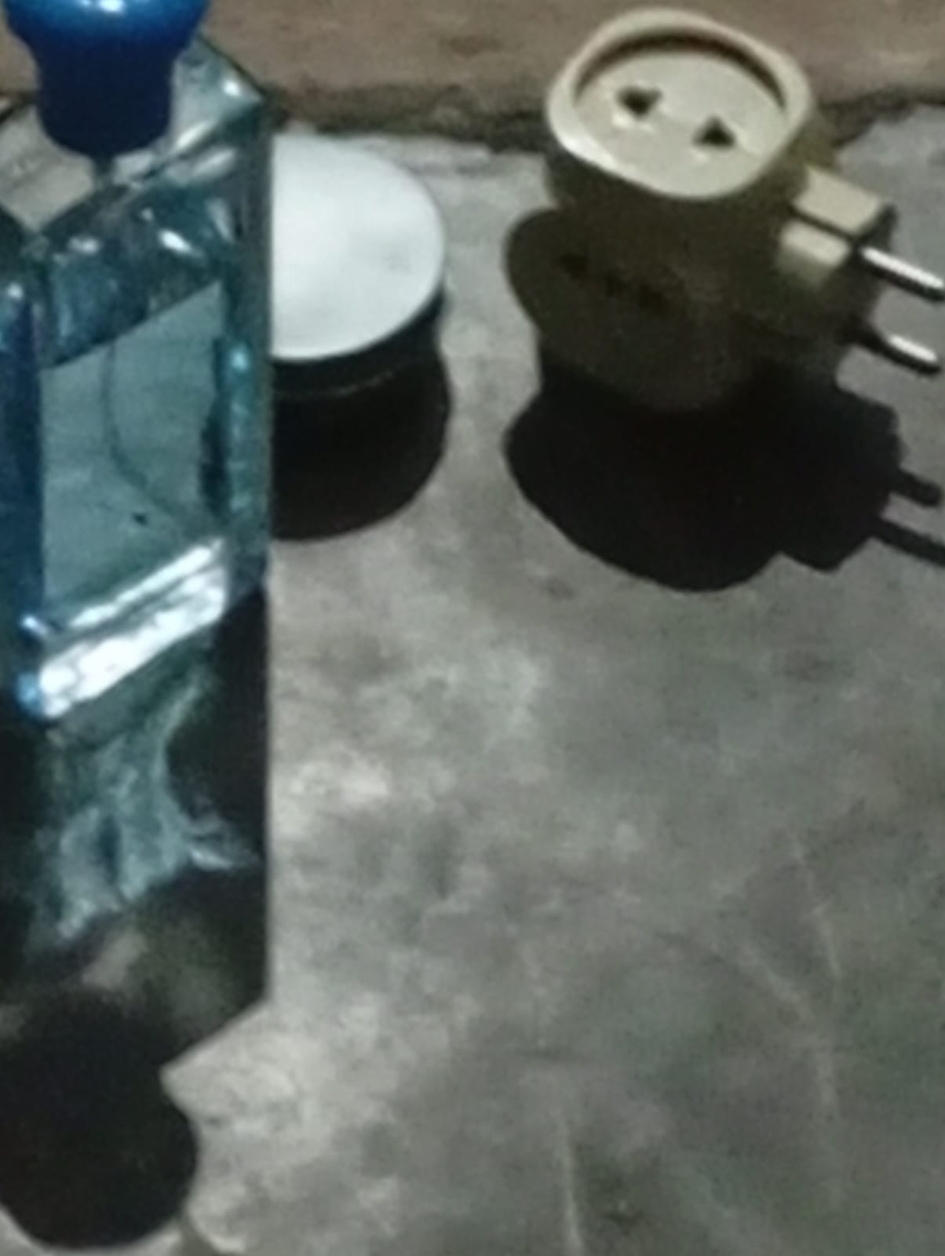Colokan: (514, 5, 945, 426)
Minyak_Rambut: (266, 85, 479, 479)
Parfum: (0, 0, 318, 1231)
